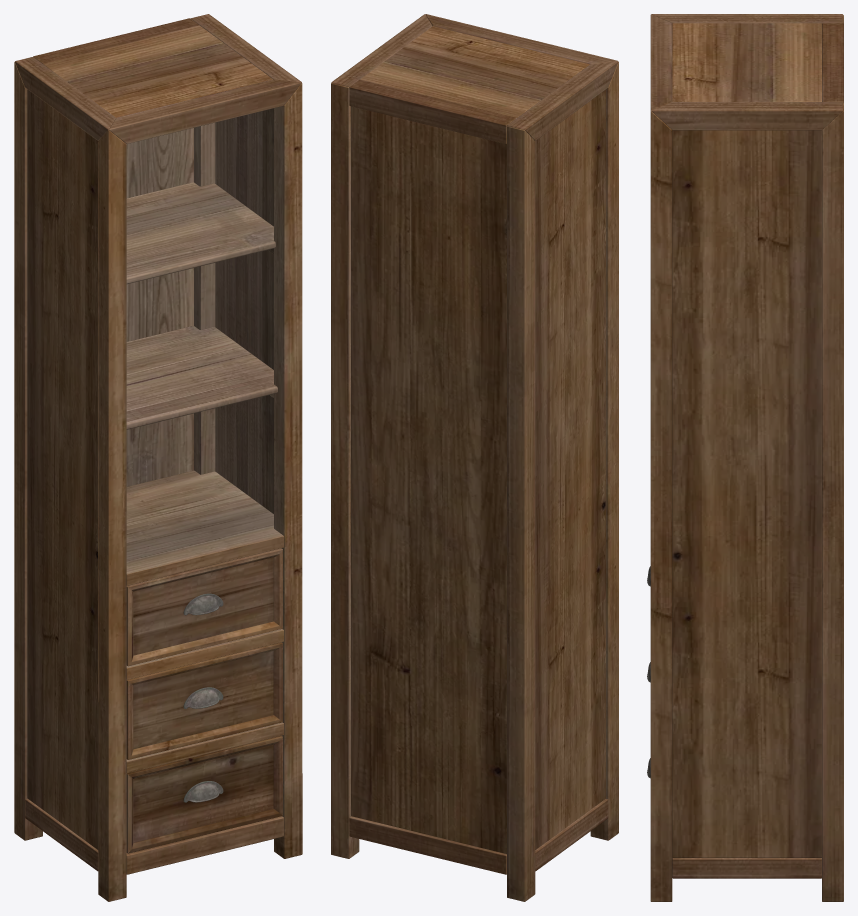
File: abo-B075ZBW22K.glb
3 renders of one model, left to right at view 1: azimuth 30°, elevation 25°; view 2: azimuth 150°, elevation 25°; view 3: azimuth 270°, elevation 25°, orthographic. The views are drawn at different scales.
Bounding box in the file's own units: 0.5 × 1.9 × 0.4279.
1 material, 1 textured.
